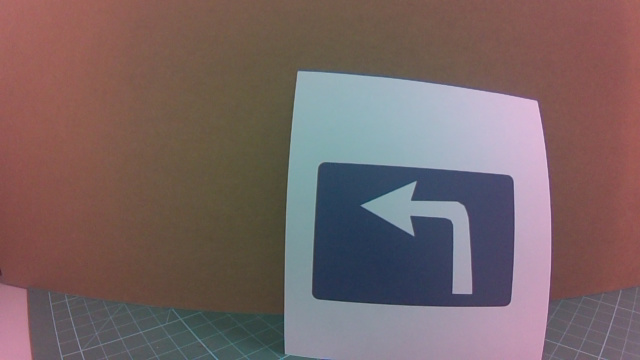left: (312, 162, 541, 322)
